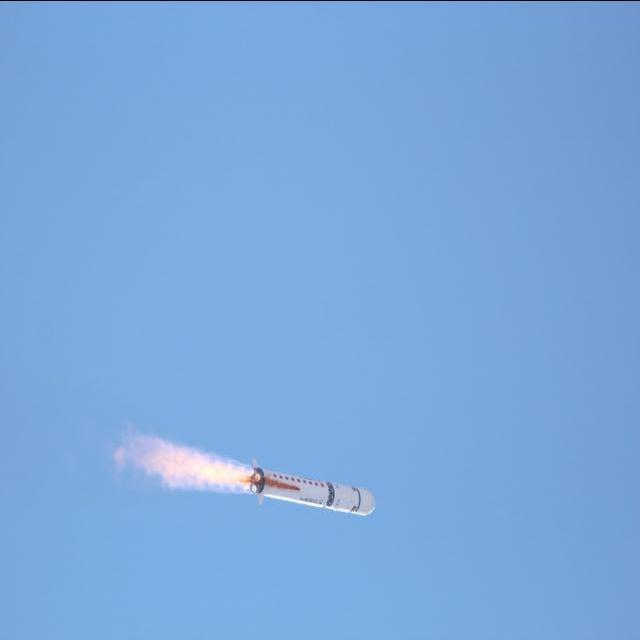missile: (237, 454, 374, 526)
